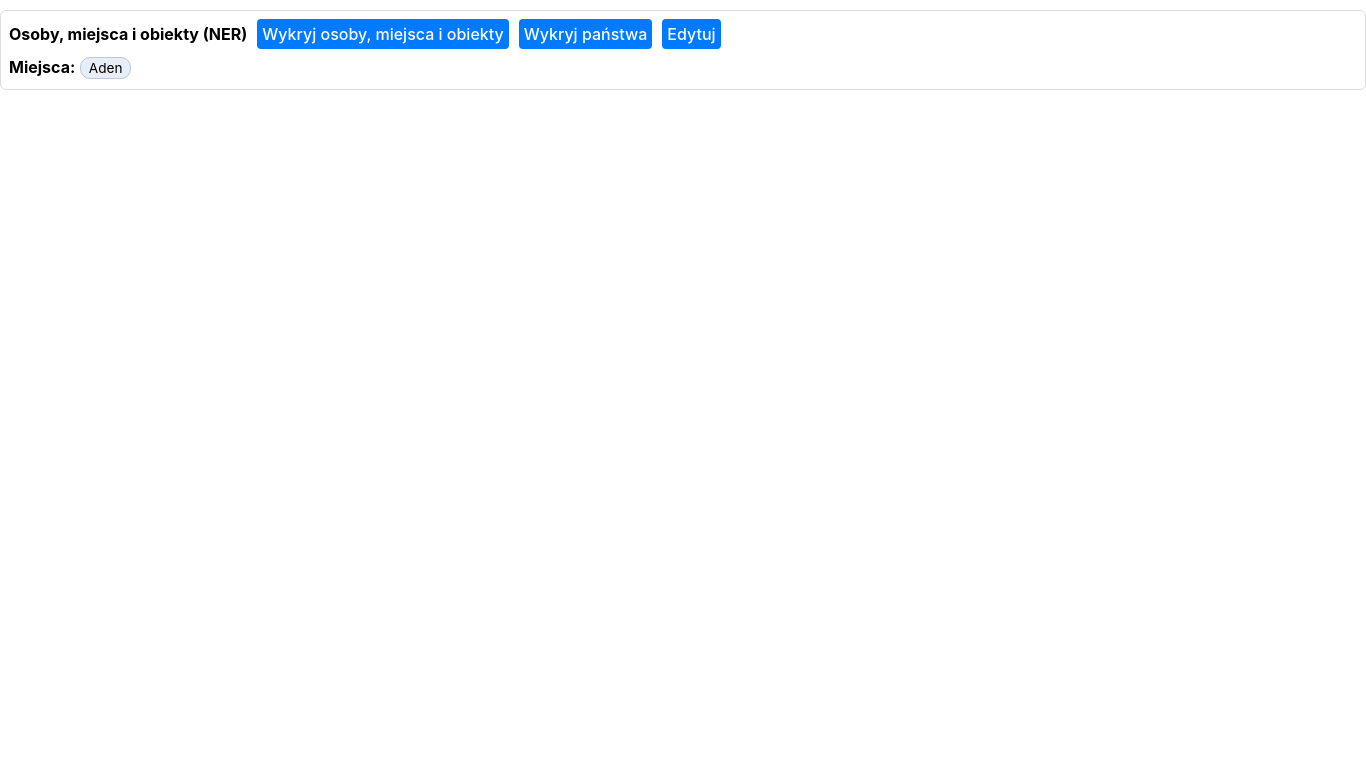
draws chapter-scoped groups through the panel's own menus in chapter mode
Click the button "Aden" at (106, 68), box [89,60,122,76]
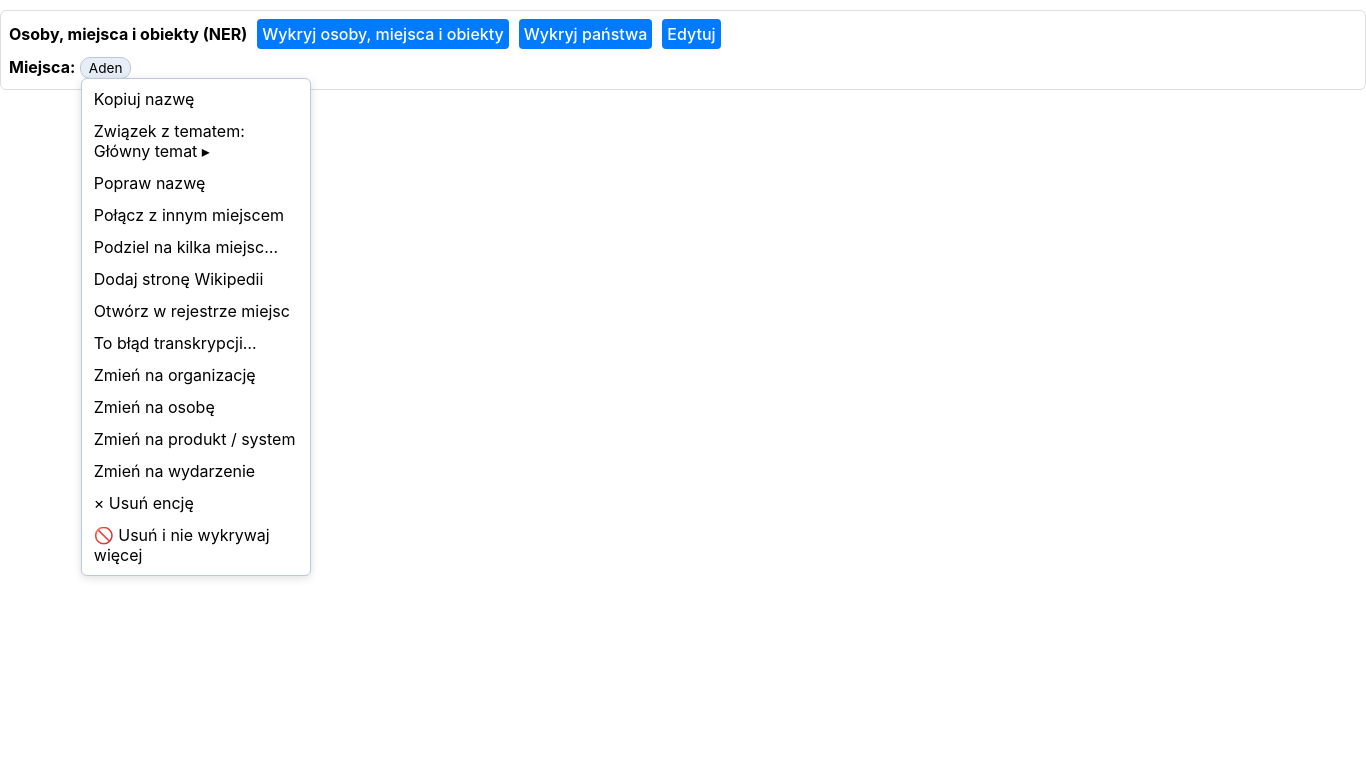
Click the menu item "Popraw nazwę" at (196, 183), box [86,167,306,199]
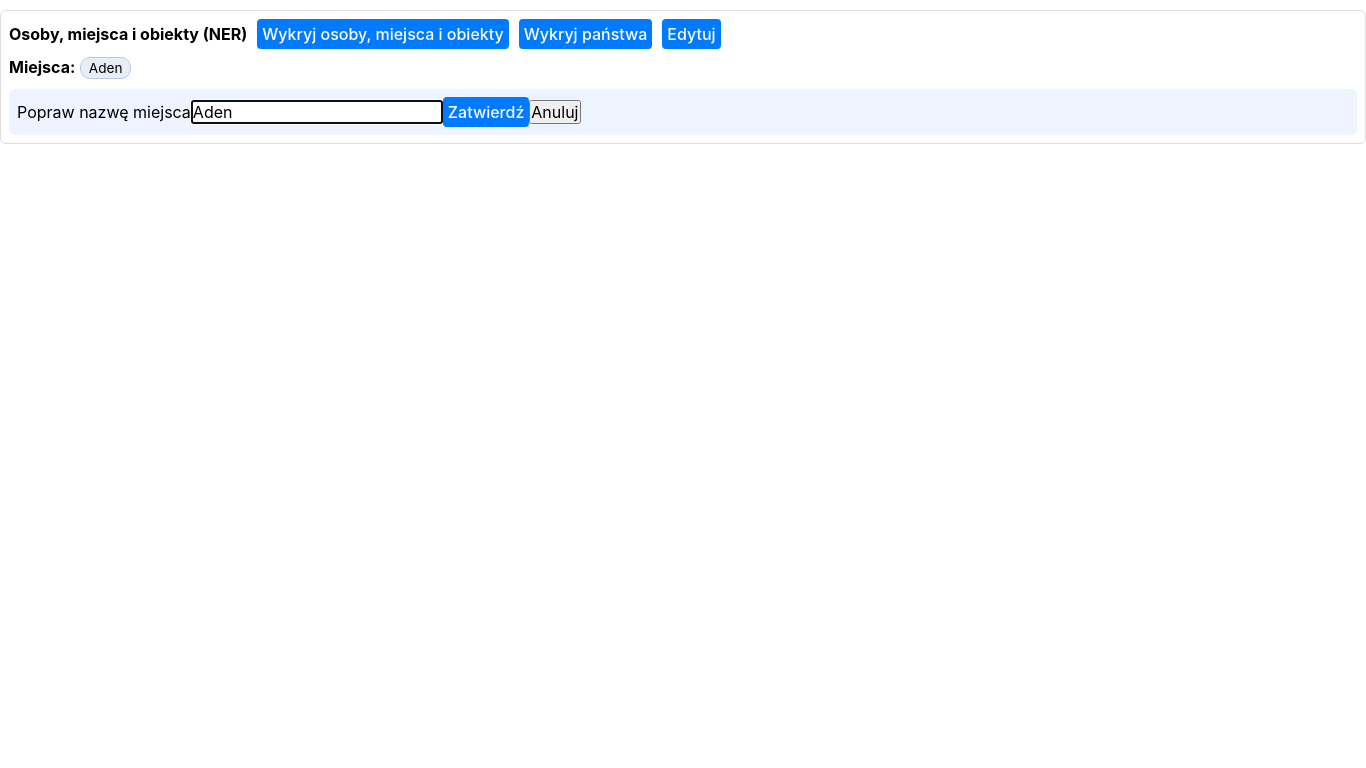
Now the field labelled "Popraw nazwę miejsca" holds "Aden", box [191,100,443,124]
